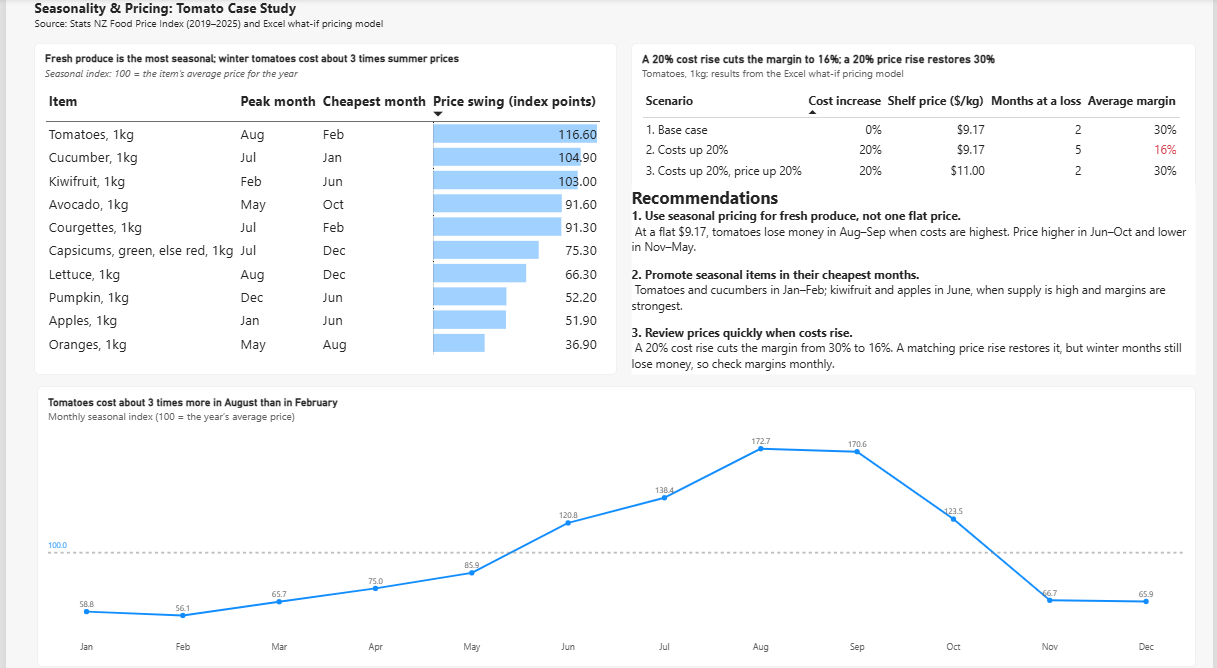

This screenshot's page, from the dashboard's own definition file:
{"tool":"powerbi","page":{"name":"Seasonality & Pricing","canvas":[1920,1080],"ordinal":1},"visuals":[{"type":"tableEx","title":"Fresh produce is the most seasonal; winter tomatoes cost about 3 times summer prices","fields":{"Values":["q5_seasonal.ItemFull","q5_seasonal.Peak month","q5_seasonal.Cheapest month","Sum(q5_seasonal.seasonal_range)"]},"box":[45.3,71.6,925.7,527.3],"z":0},{"type":"lineChart","title":"Tomatoes cost about 3 times more in August than in February","fields":{"Category":["tomato_monthly.Month"],"Y":["Sum(tomato_monthly.Seasonal index)"]},"box":[50.1,618,1841.9,446.2],"z":1000},{"type":"tableEx","title":"A 20% cost rise cuts the margin to 16%; a 20% price rise restores 30%","fields":{"Values":["pricing_scenarios.Scenario","Sum(pricing_scenarios.Cost shock)","Sum(pricing_scenarios.Flat price)","Sum(pricing_scenarios.Months at a loss)","Sum(pricing_scenarios.Avg margin)"]},"box":[994.9,71.6,897.1,245.7],"z":1001},{"type":"textbox","box":[994.9,298.2,897.1,300.6],"z":1002},{"type":"textbox","box":[45.3,0,732.5,71.6],"z":1003}]}

Visuals, with their boxes in screenshot pixels (x1, y1, x2, y2), scaled from the page's 1920x1080 canvas onto the 1217x668 screenshot:
"Fresh produce is the most seasonal; winter tomatoes cost about 3 times summer prices" tableEx: 29, 44, 615, 370
"Tomatoes cost about 3 times more in August than in February" lineChart: 32, 382, 1199, 658
"A 20% cost rise cuts the margin to 16%; a 20% price rise restores 30%" tableEx: 631, 44, 1199, 196
textbox: 631, 184, 1199, 370
textbox: 29, 0, 493, 44
